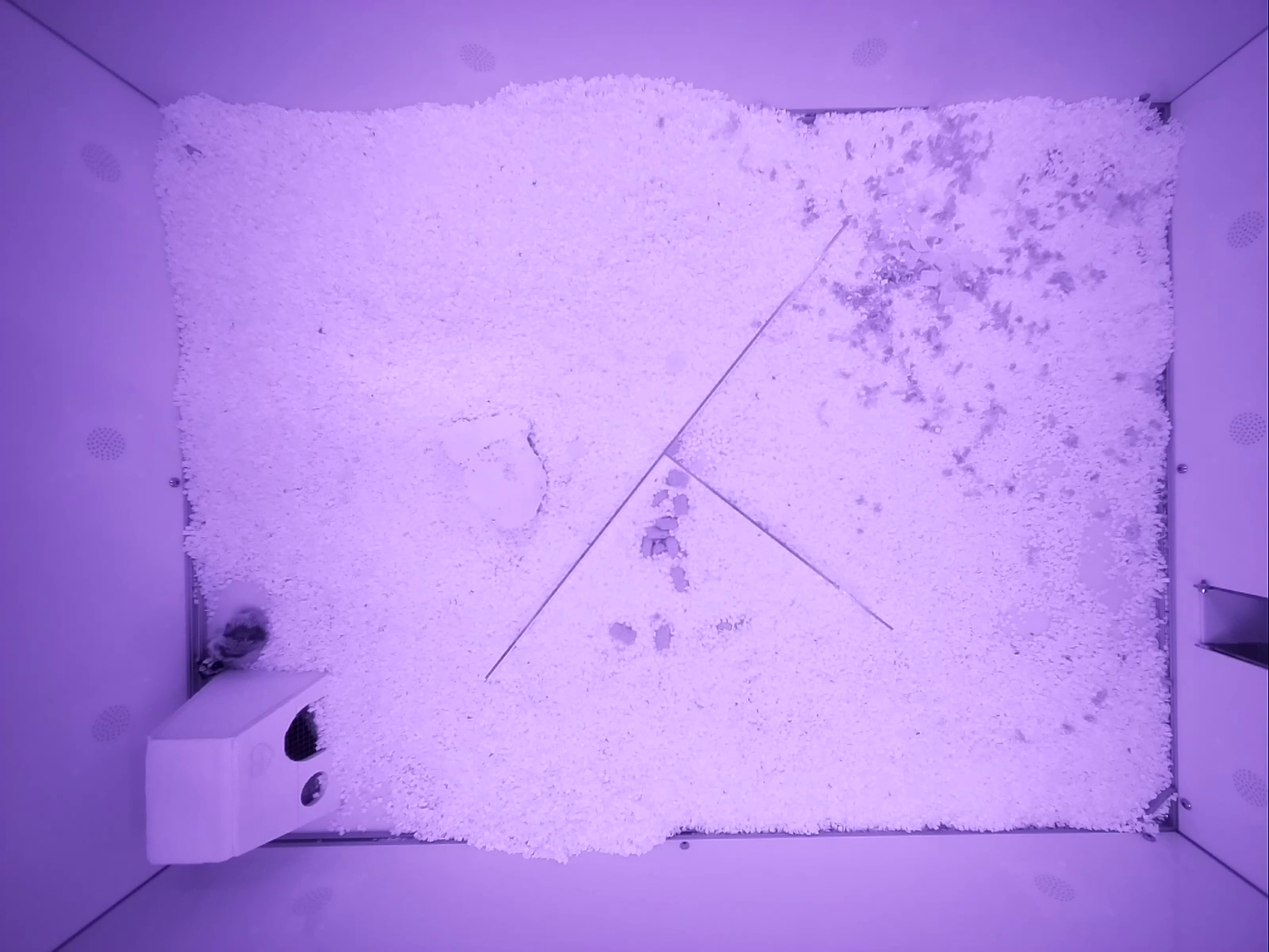adult_back: (197, 607, 267, 679)
